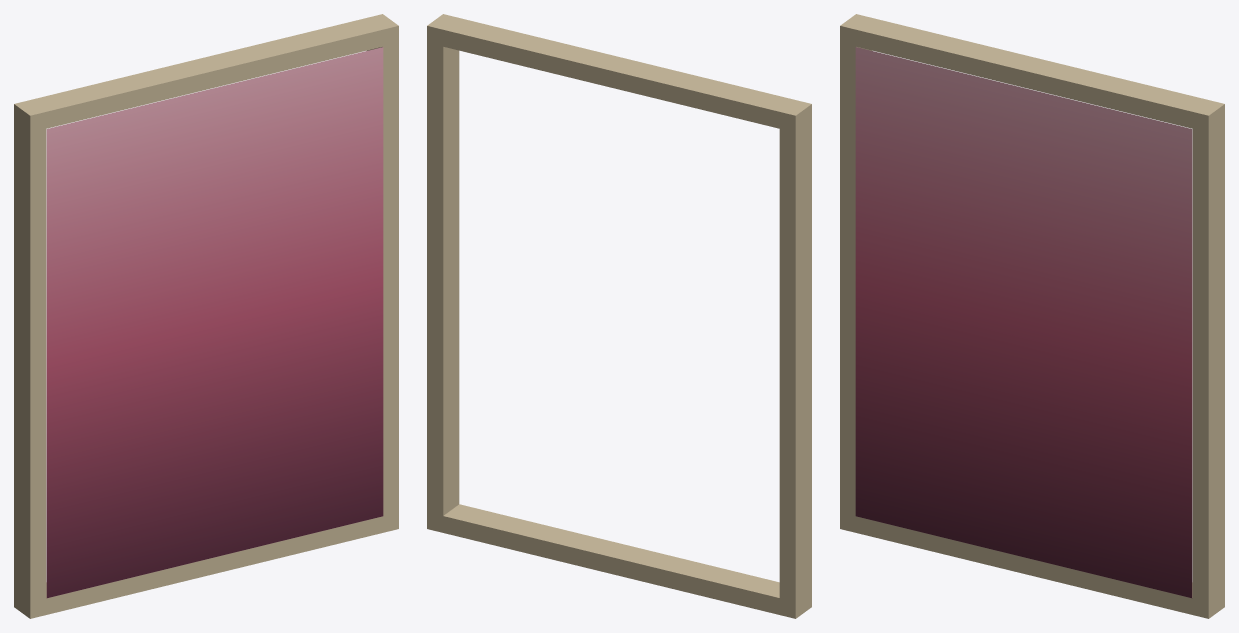
The model's file is bloom_canvas_1824.glb.
The picture shows the model from 3 angles, left to right: view 1: azimuth 30°, elevation 25°; view 2: azimuth 150°, elevation 25°; view 3: azimuth 330°, elevation 25°; orthographic projection.
Parts seen in each view (by area): view 1: world; view 2: world; view 3: world.
Boxes of the visible parts, x1,y1,x2,y2 form: world: (14, 14, 398, 618); world: (427, 14, 811, 618); world: (840, 14, 1224, 618).
Bounding box in the file's own units: 0.5012 × 0.6536 × 0.039.
Materials: 1 (1 with a texture image).
